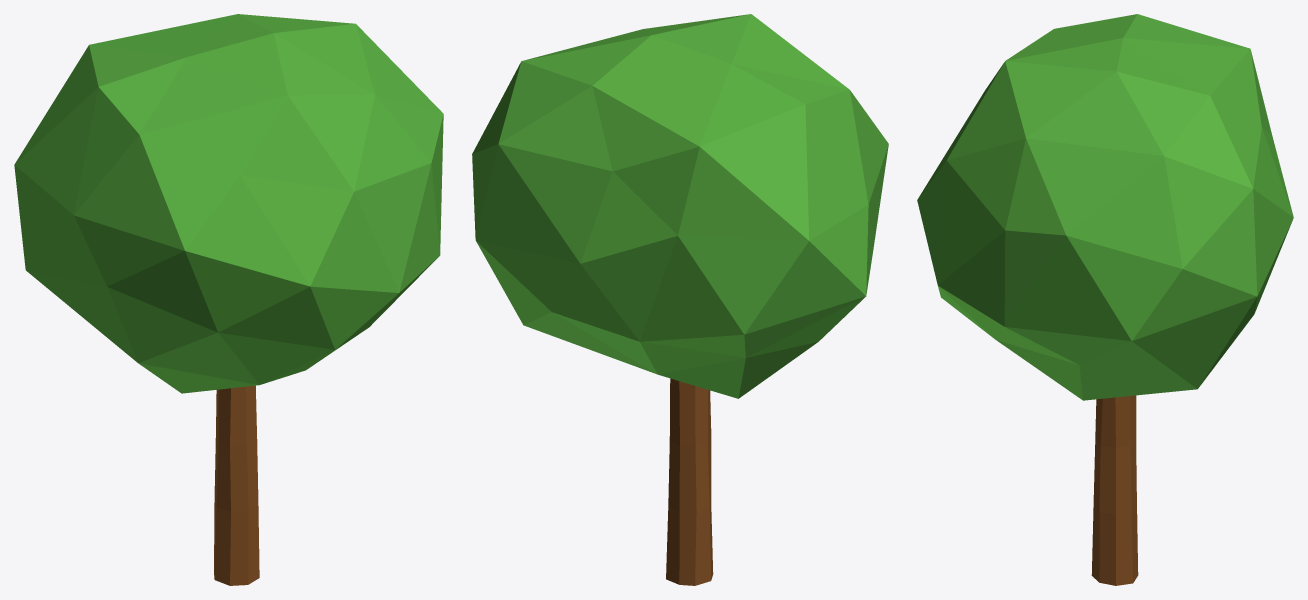
Rendered from tree4.fbx.
3 views of the same model, side by side, from view 1: azimuth 30°, elevation 25°; view 2: azimuth 150°, elevation 25°; view 3: azimuth 270°, elevation 25° (orthographic). The views are drawn at different scales.
Parts seen in each view (by area): view 1: tree.004; view 2: tree.004; view 3: tree.004.
Boxes of the visible parts, <box> form: tree.004: <box>14,14,443,585</box>; tree.004: <box>472,14,888,585</box>; tree.004: <box>917,14,1293,585</box>.
Bounding box in the file's own units: 2242 × 1918 × 2936.
